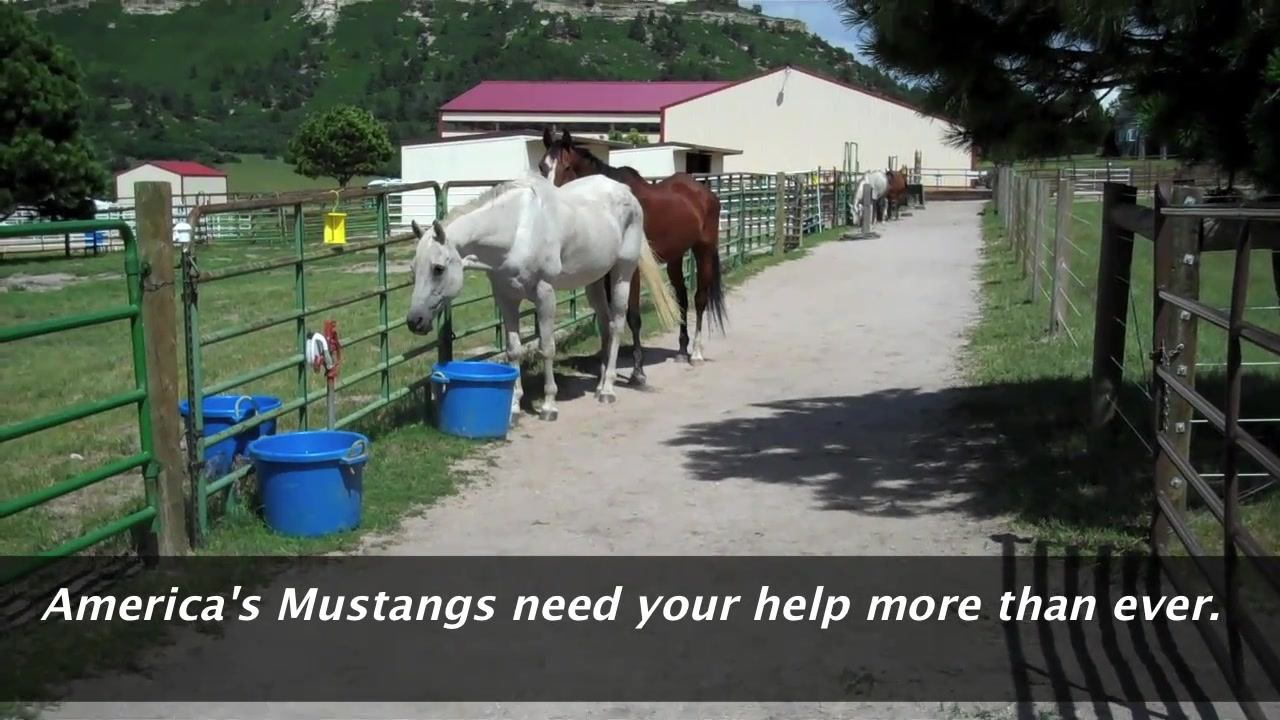horse: (403, 174, 682, 425), (537, 124, 734, 370), (849, 168, 897, 224), (884, 166, 914, 223)
